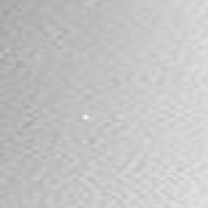Target: (82, 114, 90, 120)
